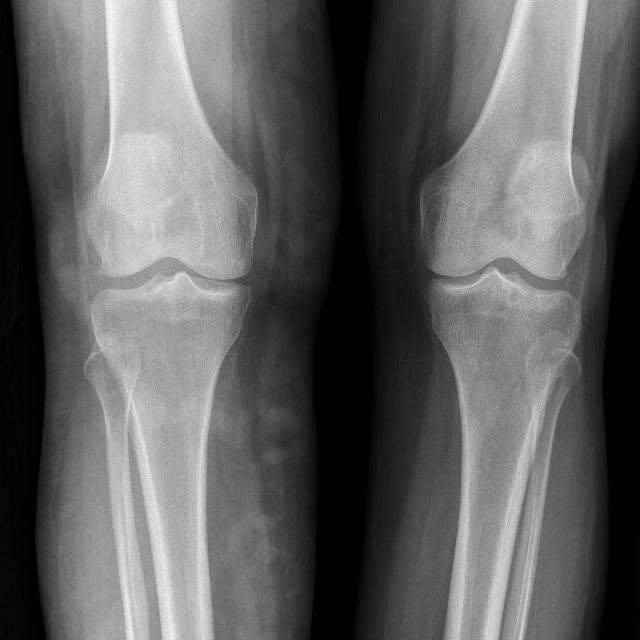Knee: (81, 195, 260, 363), (414, 196, 589, 342)
